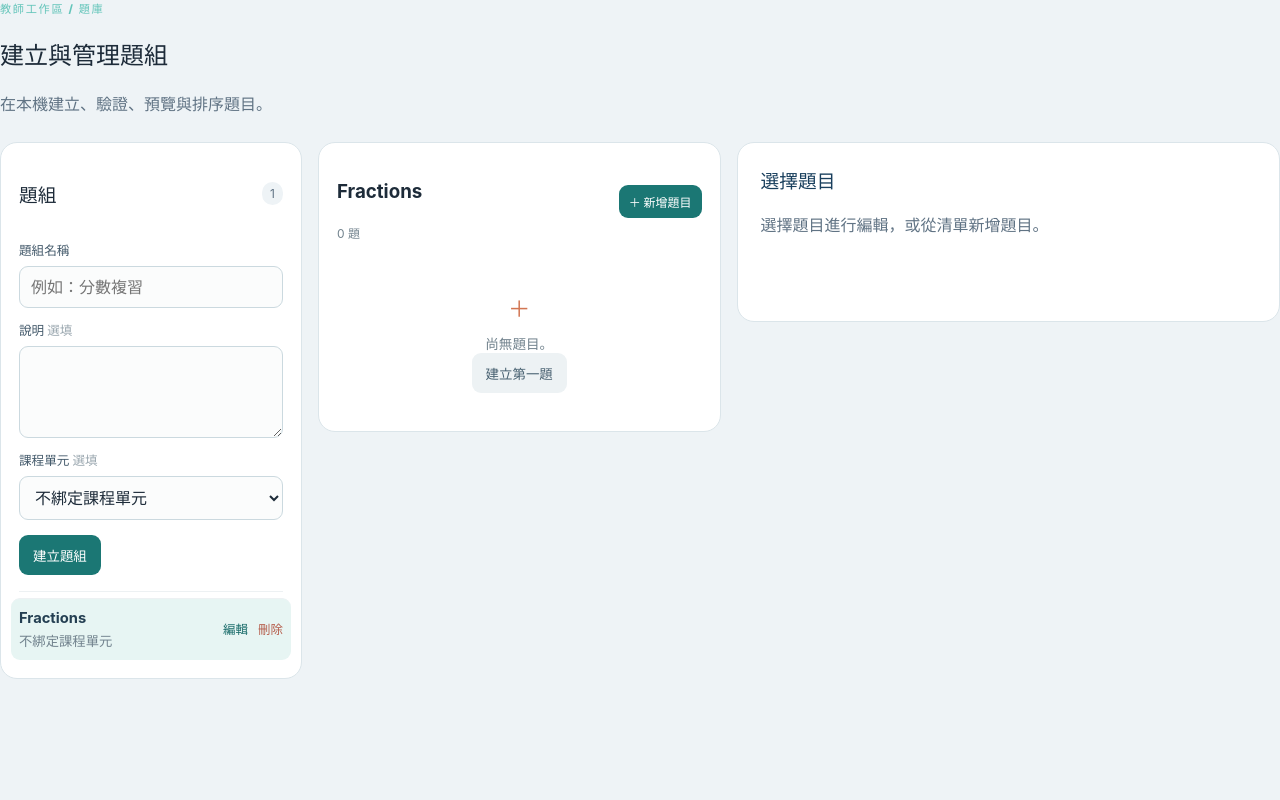
Test: Question Bank feature › creates a Question with its draft assets and then switches to persisted media editing
Step 1. Click the button "＋ 新增題目" → click(660, 201), box [619,185,702,218]
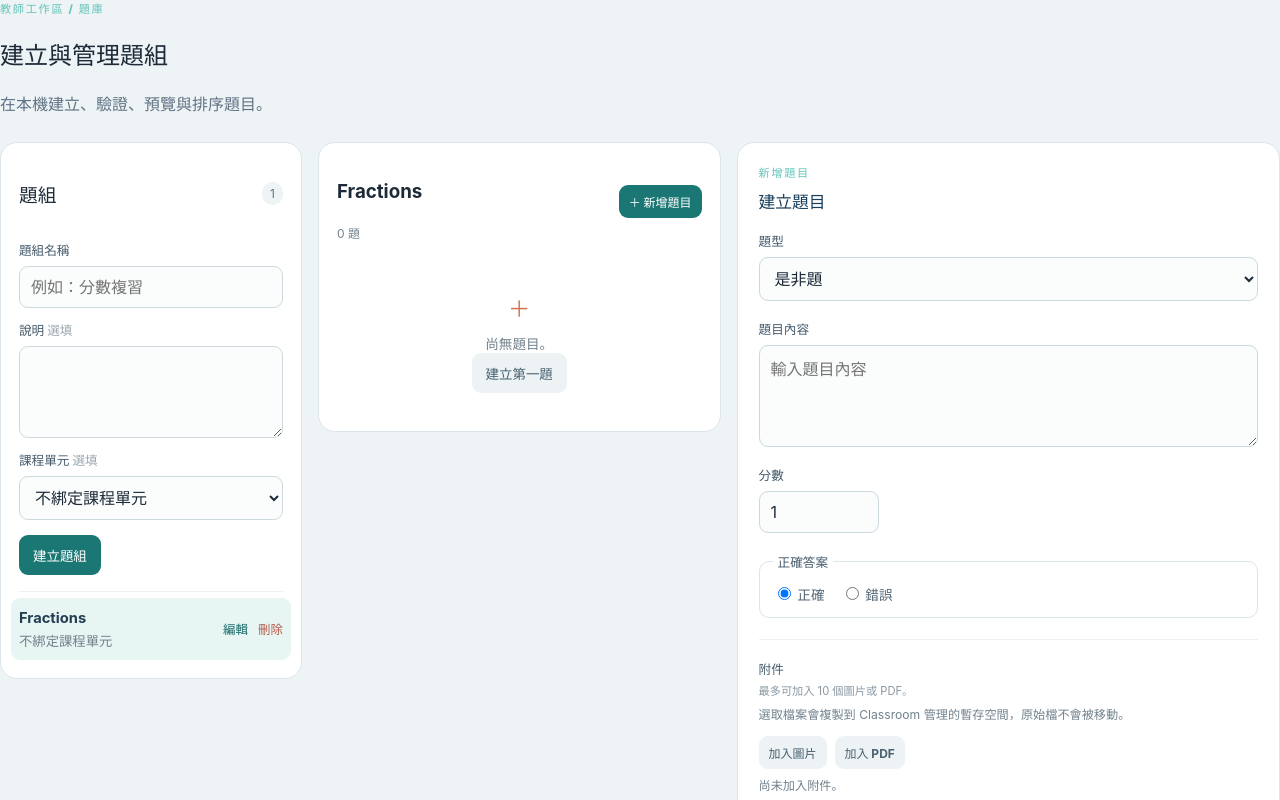
Result: the button "加入圖片" is enabled at [758,736,826,769]
Step 2. Type "新題目" into the text box labelled "題目內容" → (1008, 396), box [758,345,1258,447]
(page scrolled)
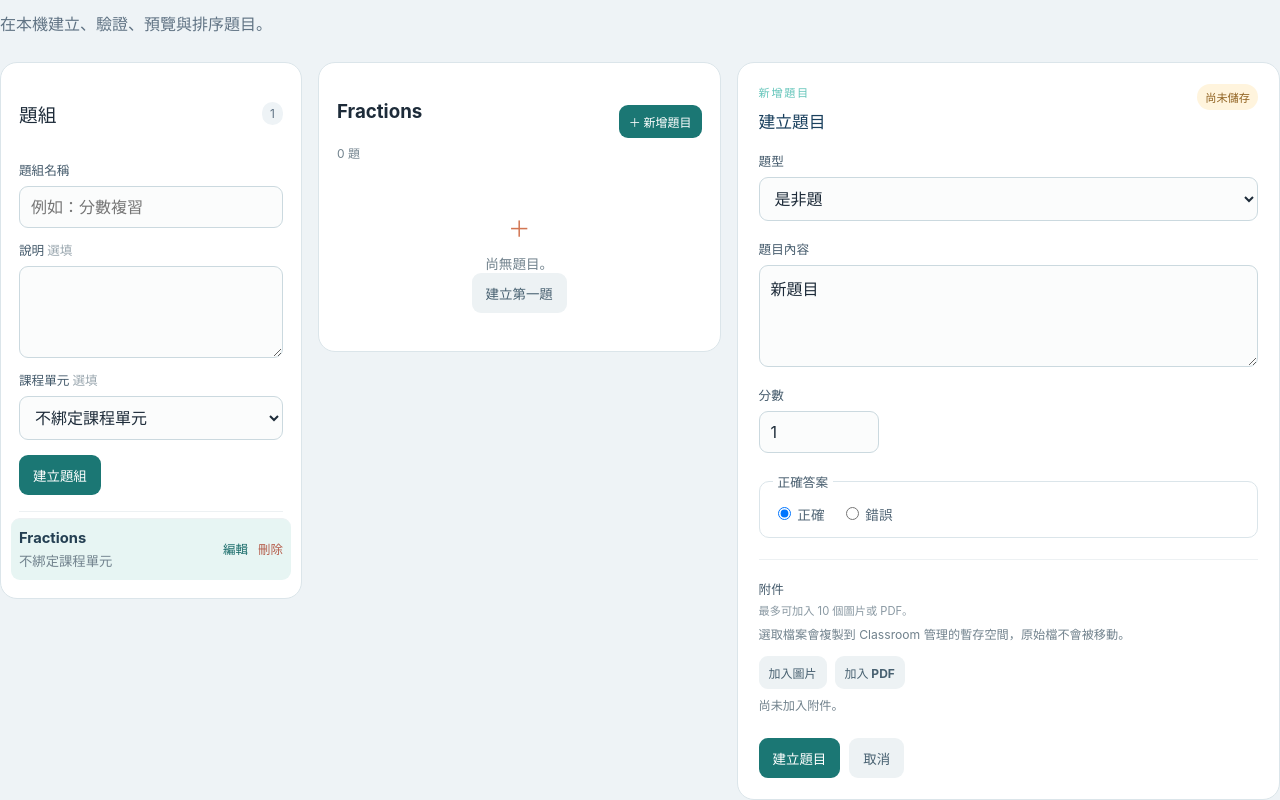
Step 3. Click the button "建立題目" → click(799, 758), box [758,738,840,778]
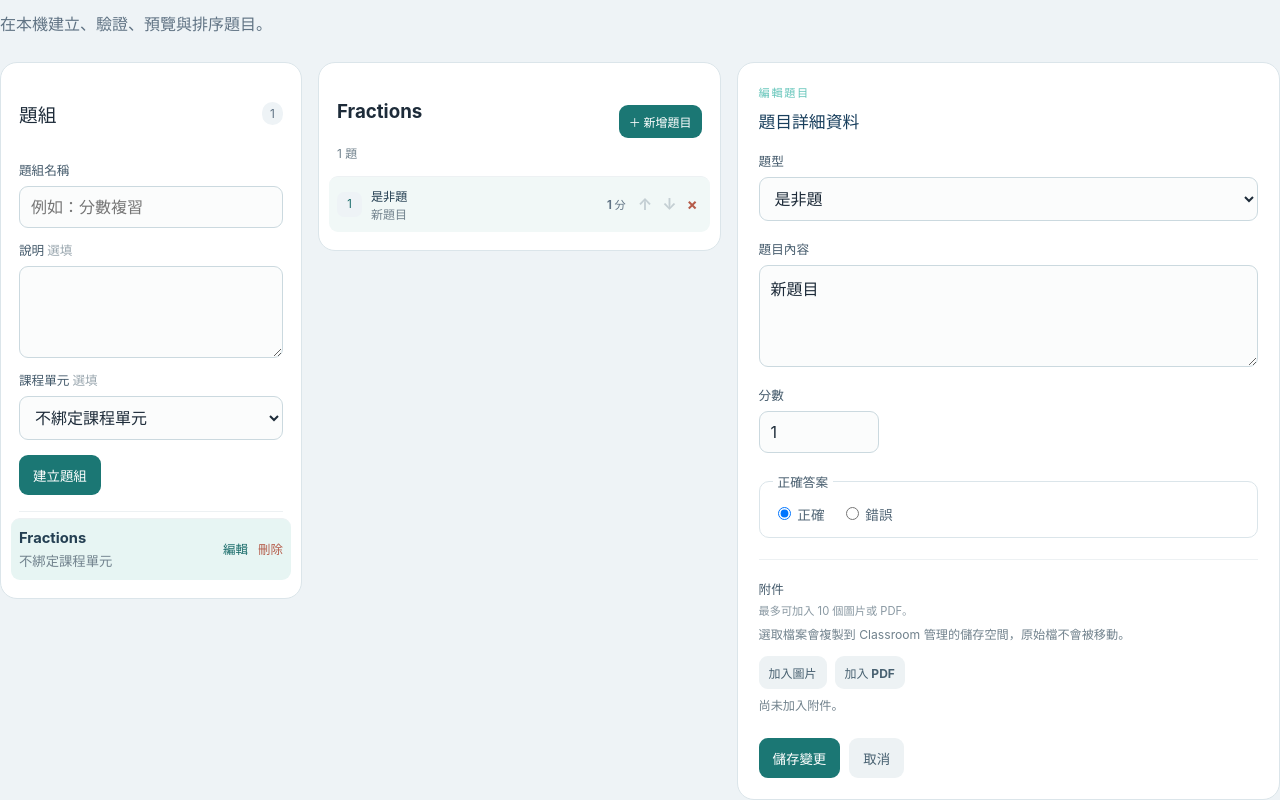
Result: the button "加入圖片" is enabled at [758,656,826,689]
Result: the button "加入 PDF" is enabled at [834,656,905,689]
Result: the button "儲存變更" is shown at [758,738,840,778]
